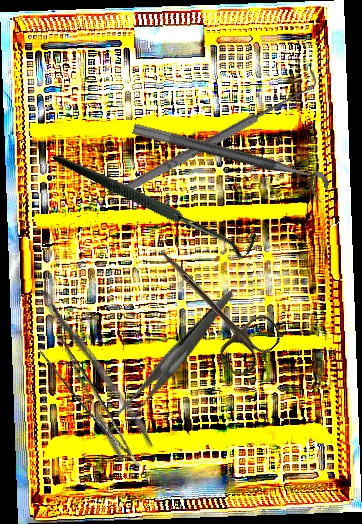Dressing Forceps: (91, 290, 263, 427), (37, 275, 155, 465)
Fixation Ring: (127, 122, 332, 203)
Hook Surgical: (52, 87, 263, 314), (109, 68, 325, 201)
Iris Scissors: (135, 230, 287, 381)
Tissue Forceps: (35, 328, 141, 481)
